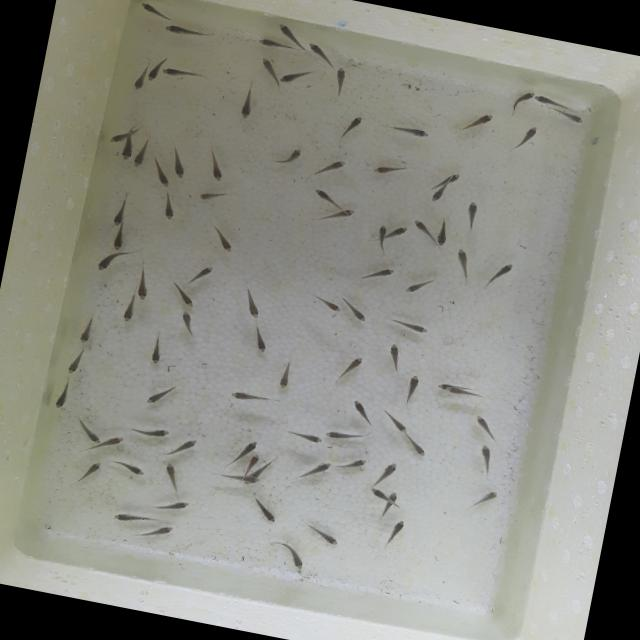fingerling: (457, 104, 500, 138), (294, 456, 334, 489), (160, 432, 202, 463), (164, 144, 194, 184), (370, 157, 414, 184), (512, 120, 546, 154), (70, 456, 106, 488), (307, 157, 348, 185), (301, 522, 345, 548), (240, 498, 282, 524), (144, 378, 176, 412), (379, 518, 412, 550), (205, 226, 240, 256), (486, 259, 516, 293), (140, 520, 176, 548), (333, 352, 364, 384), (322, 204, 354, 235), (386, 121, 433, 142), (337, 450, 372, 478), (162, 22, 210, 42), (162, 62, 205, 84), (196, 185, 236, 208), (254, 36, 300, 56), (373, 456, 400, 490), (105, 196, 132, 230), (230, 387, 273, 408), (92, 248, 124, 276), (276, 144, 308, 172), (359, 262, 396, 286), (277, 66, 314, 90), (186, 260, 217, 288), (324, 424, 363, 446), (278, 542, 308, 570), (230, 438, 260, 466), (379, 412, 414, 436), (534, 93, 578, 112), (450, 246, 476, 278), (240, 289, 265, 322), (171, 286, 202, 312), (160, 462, 185, 494), (107, 459, 147, 479), (472, 444, 497, 476), (406, 274, 434, 302), (115, 507, 154, 527), (343, 300, 373, 326), (342, 112, 368, 142), (204, 152, 228, 184), (130, 138, 154, 170), (156, 495, 194, 515), (130, 422, 170, 441), (392, 318, 430, 338), (220, 468, 262, 486), (146, 332, 167, 368), (147, 162, 176, 188), (472, 415, 502, 440), (274, 362, 298, 393), (76, 316, 99, 348), (49, 384, 76, 411), (472, 488, 500, 514), (235, 88, 257, 121), (402, 437, 432, 461), (159, 192, 183, 222), (508, 88, 537, 112), (552, 108, 589, 126), (384, 339, 404, 372), (312, 188, 343, 209), (80, 423, 106, 448), (257, 55, 281, 82), (332, 66, 351, 100), (110, 124, 138, 147), (144, 56, 167, 84), (312, 294, 344, 314), (348, 398, 372, 424), (446, 384, 485, 400), (176, 310, 200, 336), (378, 490, 399, 519), (286, 430, 324, 446), (403, 374, 422, 406), (276, 24, 306, 44), (308, 44, 337, 64), (121, 294, 139, 326), (136, 270, 154, 301), (464, 198, 481, 230), (100, 434, 127, 454), (120, 135, 138, 164), (252, 332, 272, 358), (130, 66, 150, 92), (68, 349, 86, 376), (371, 223, 389, 250), (428, 183, 451, 204), (109, 230, 129, 253), (435, 218, 449, 248), (244, 452, 262, 474), (410, 220, 433, 237), (138, 2, 168, 15), (440, 168, 460, 186), (389, 226, 409, 243), (368, 488, 392, 500), (435, 381, 459, 392)
